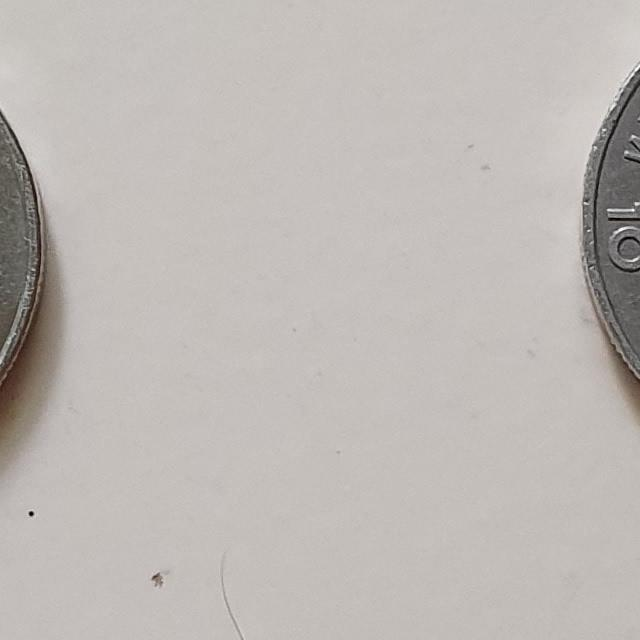10 Bath: (580, 46, 640, 389), (1, 93, 53, 419)
